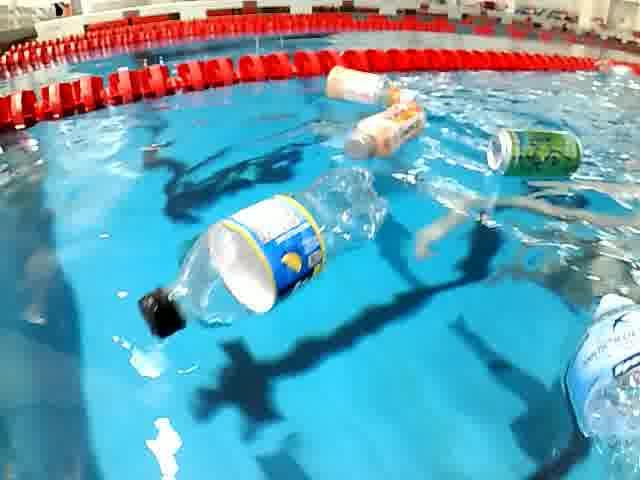Bottle: (128, 165, 392, 345), (555, 287, 640, 480), (336, 103, 426, 163), (322, 62, 420, 110)
Can: (476, 124, 590, 180)
